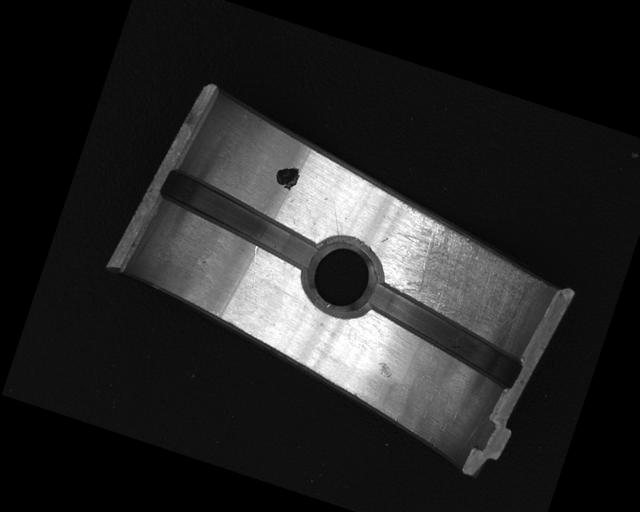blot: (272, 161, 302, 192)
bruise: (374, 359, 396, 380)
gap: (348, 277, 534, 393), (149, 165, 327, 272)
hole: (298, 231, 385, 323)
nick: (235, 244, 275, 309), (323, 200, 349, 237)
scratch: (371, 197, 561, 355)
